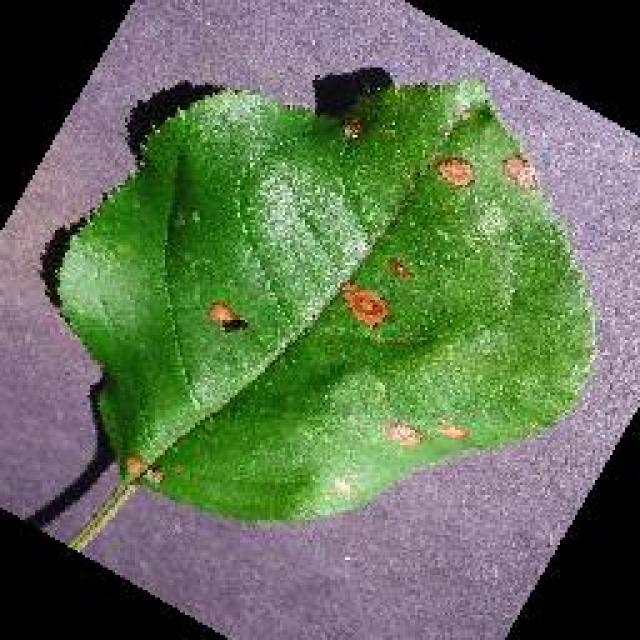Black_rot: (48, 70, 598, 552)
